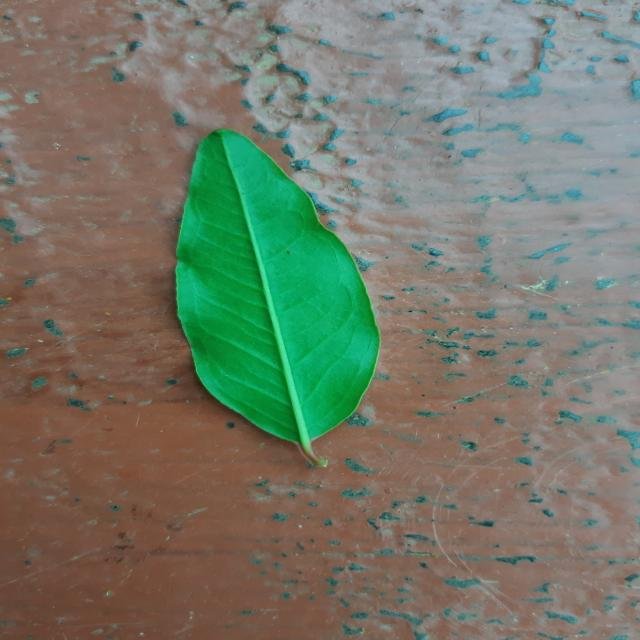pumpkin: (176, 129, 380, 466)
